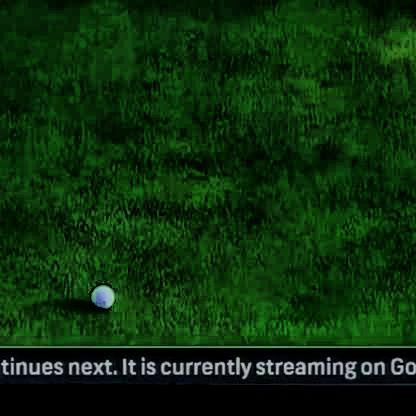golfball: (86, 277, 111, 307)
